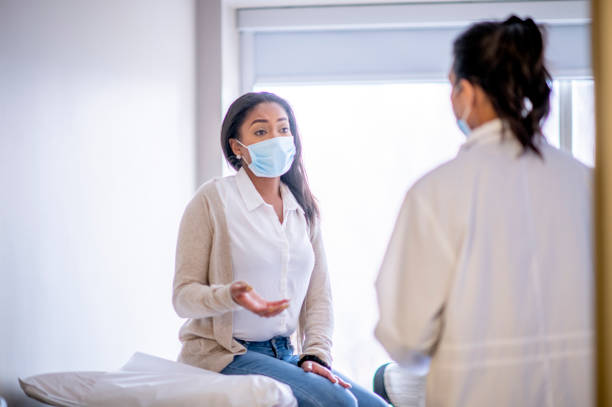with mask: (214, 88, 319, 186)
